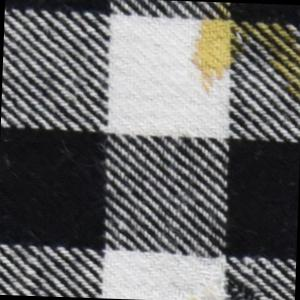Damage: (219, 270, 271, 300)
Stain: (187, 2, 300, 108)
